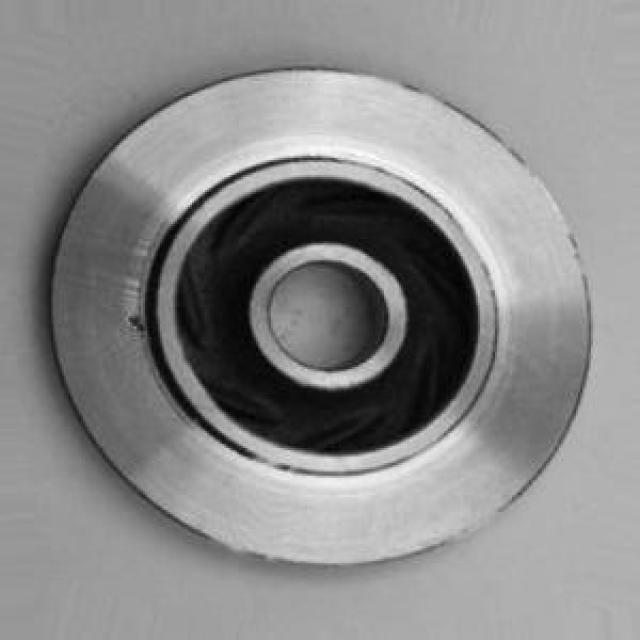Defect: (124, 309, 149, 338)
